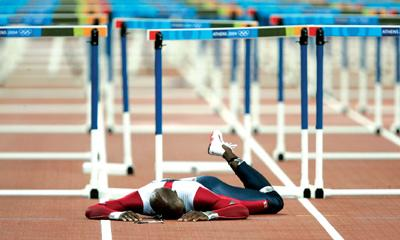down: (59, 127, 300, 228)
